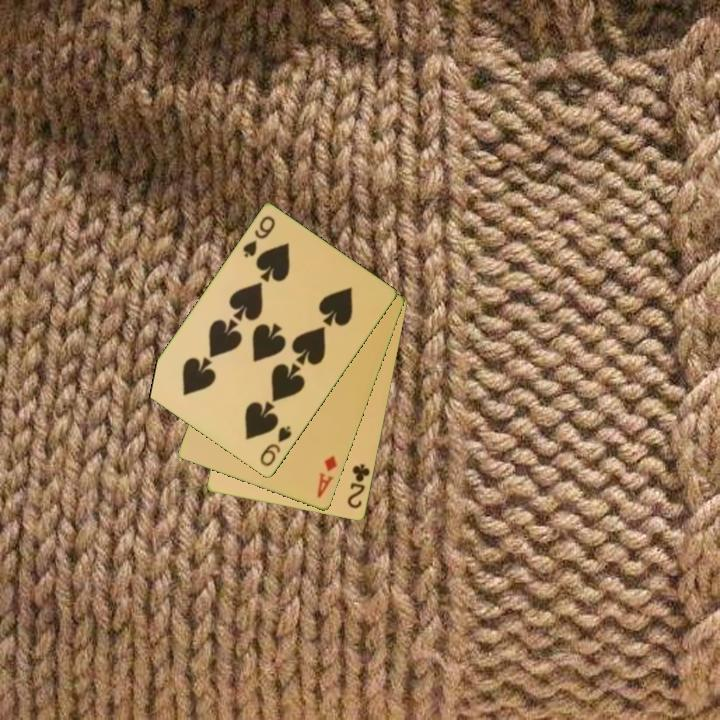2c: (344, 460, 373, 512)
9s: (239, 212, 278, 261), (256, 422, 295, 470)
Ad: (314, 452, 340, 501)
